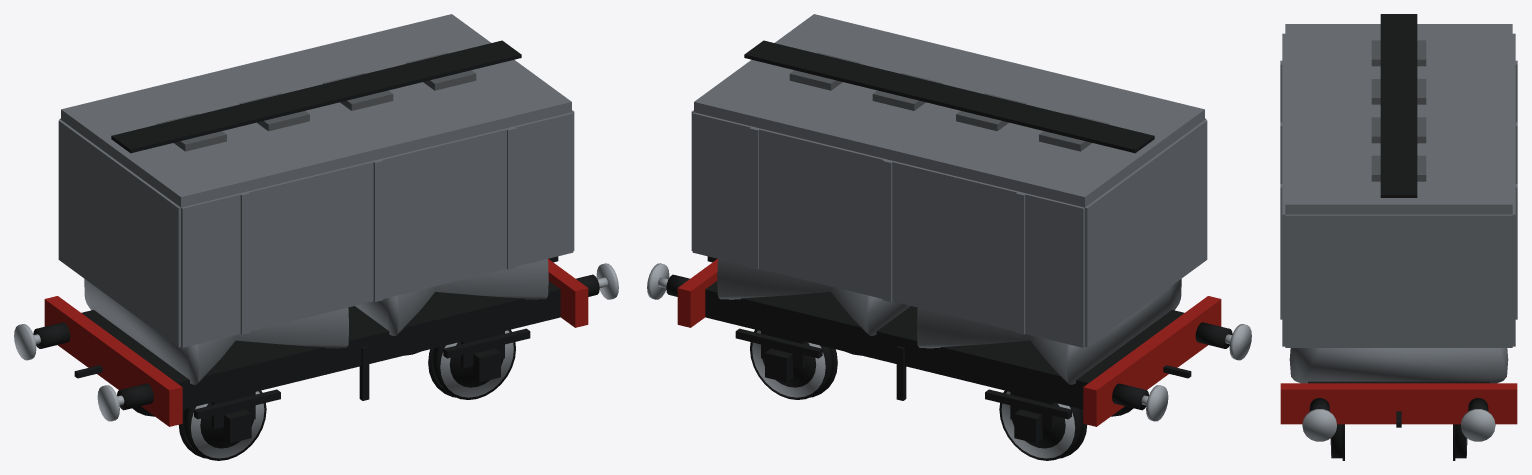
Rendered from grain_hopper.glb.
3 views of the same model, side by side, from view 1: azimuth 30°, elevation 25°; view 2: azimuth 150°, elevation 25°; view 3: azimuth 270°, elevation 25° (orthographic). The views are drawn at different scales.
Visible parts, largest first — view 1: lateral.001, teto, cabeceira.001, longarina.001, passarela, estrado, funil.001, viga.001, funil, viga, reforco.003, reforco.004 (+19 smaller); view 2: lateral, teto, cabeceira.001, longarina, passarela, estrado, funil.001, viga.001, funil, viga, reforco, reforco.001 (+19 smaller); view 3: teto, cabeceira, viga, funil, passarela, lateral.001, lateral, buffer_cabeca, buffer_cabeca.001, escotilha, escotilha.002, escotilha.003 (+6 smaller).
Part boxes in pixels (box(x1,y1,x2,y2)): lateral.001: box(181, 112, 573, 347); teto: box(61, 14, 571, 207); cabeceira.001: box(58, 120, 180, 347); longarina.001: box(173, 290, 560, 409); passarela: box(111, 40, 521, 153); estrado: box(82, 281, 560, 388); funil.001: box(84, 279, 348, 384); viga.001: box(44, 296, 182, 426); funil: box(355, 259, 548, 335); viga: box(547, 259, 588, 327); reforco.003: box(240, 191, 250, 334); reforco.004: box(373, 159, 383, 301); lateral: box(692, 112, 1084, 347); teto: box(694, 14, 1204, 207); cabeceira.001: box(1085, 120, 1207, 347); longarina: box(705, 289, 1092, 409); passarela: box(744, 40, 1154, 153); estrado: box(705, 281, 1183, 388); funil.001: box(917, 279, 1181, 384); viga.001: box(1083, 296, 1221, 426); funil: box(717, 259, 910, 335); viga: box(677, 259, 718, 327); reforco: box(1015, 191, 1025, 334); reforco.001: box(882, 159, 892, 301); teto: box(1285, 24, 1512, 214); cabeceira: box(1285, 214, 1512, 347); viga: box(1280, 383, 1517, 424); funil: box(1289, 348, 1508, 383); passarela: box(1380, 14, 1417, 197); lateral.001: box(1282, 33, 1285, 346); lateral: box(1512, 33, 1515, 346); buffer_cabeca: box(1461, 409, 1495, 441); buffer_cabeca.001: box(1302, 409, 1336, 441); escotilha: box(1371, 40, 1426, 66); escotilha.002: box(1371, 117, 1426, 143); escotilha.003: box(1371, 155, 1426, 181).
Size of the model in its own units: 6.05 by 3.57 by 2.61.
